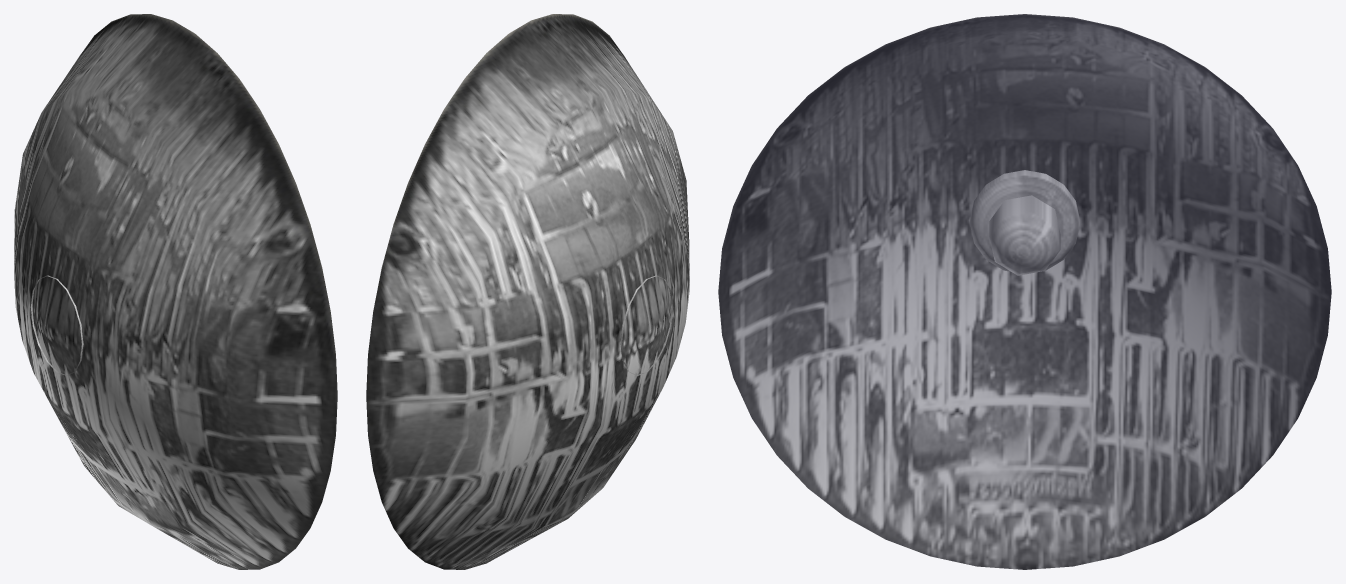
3 renders of one model, left to right at view 1: azimuth 30°, elevation 25°; view 2: azimuth 150°, elevation 25°; view 3: azimuth 270°, elevation 25°, orthographic. The views are drawn at different scales.
Parts seen in each view (by area): view 1: J715_8A_061B_L_J715_8A_061B_L_2_N; view 2: J715_8A_061B_L_J715_8A_061B_L_2_N; view 3: J715_8A_061B_L_J715_8A_061B_L_2_N, J715_8A_061B_L_1_DTaSI_J715_8A_061B_L.
Part boxes in pixels (x1,y1,x2,y2): J715_8A_061B_L_J715_8A_061B_L_2_N: [14, 14, 337, 569]; J715_8A_061B_L_J715_8A_061B_L_2_N: [366, 14, 689, 569]; J715_8A_061B_L_J715_8A_061B_L_2_N: [718, 14, 1331, 569]; J715_8A_061B_L_1_DTaSI_J715_8A_061B_L: [718, 14, 1331, 569].
Bounding box in the file's own units: 9.05 × 23.75 × 23.75.
